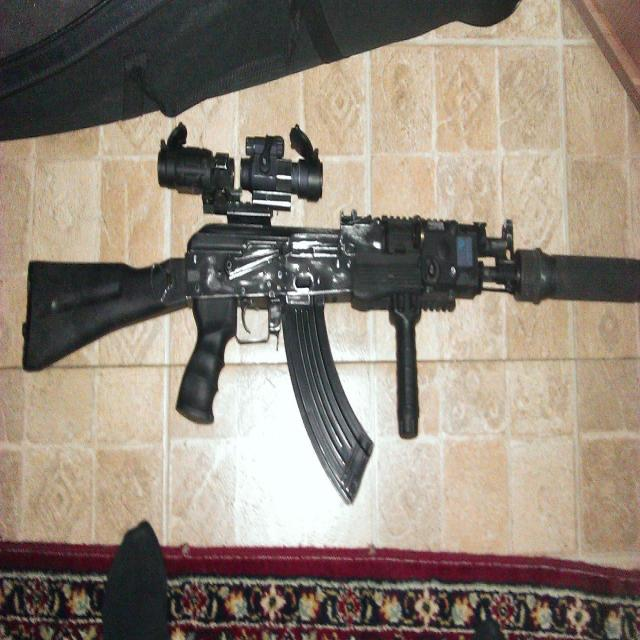firearm: (18, 121, 640, 506)
